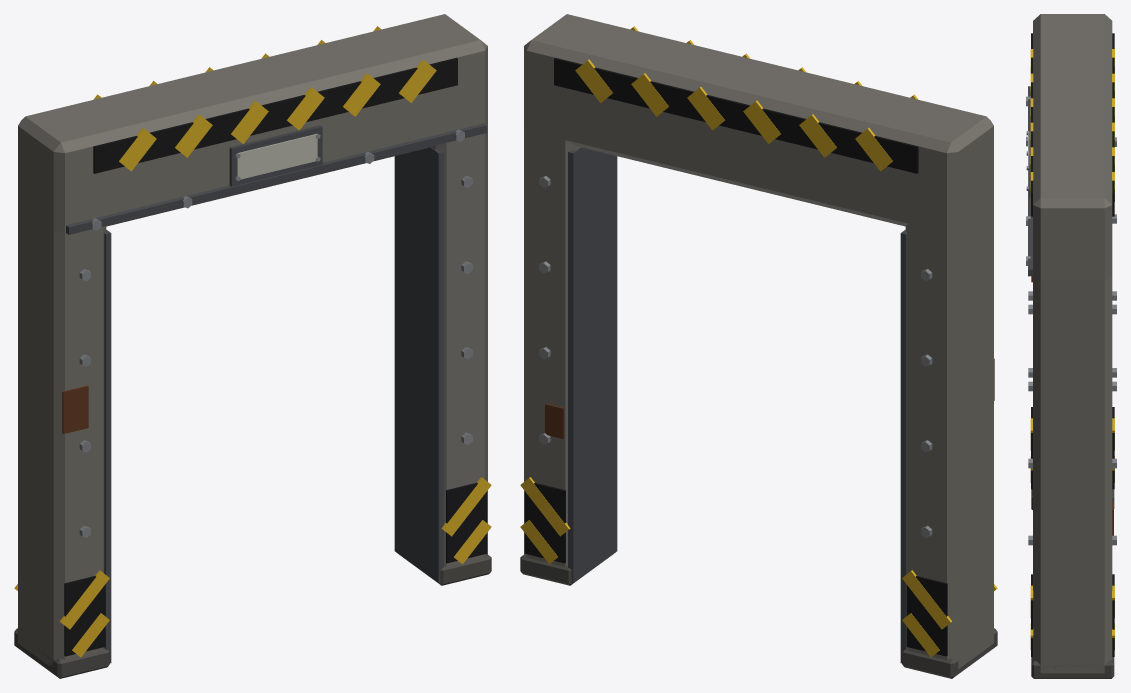
Rendered from prop_room_bulkhead.fbx.
The picture shows the model from 3 angles, left to right: view 1: azimuth 30°, elevation 25°; view 2: azimuth 150°, elevation 25°; view 3: azimuth 270°, elevation 25°; orthographic projection. The views are drawn at different scales.
Visible parts, largest first — view 1: prop_room_bulkhead; view 2: prop_room_bulkhead; view 3: prop_room_bulkhead.
Part boxes in pixels (bbox=[...]): prop_room_bulkhead: bbox=[14, 14, 491, 678]; prop_room_bulkhead: bbox=[520, 14, 997, 678]; prop_room_bulkhead: bbox=[1026, 14, 1116, 678].
Bounding box in the file's own units: 2.39 × 2.8 × 0.482.
